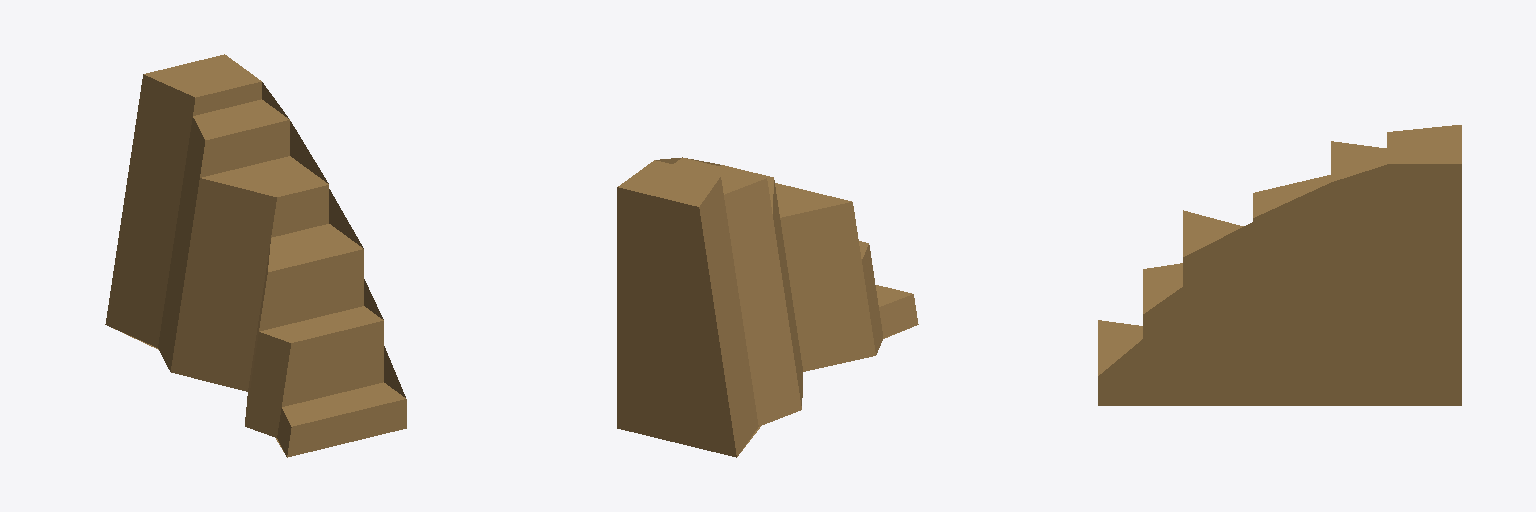
The picture shows the model from 3 angles: view 1: azimuth 30°, elevation 25°; view 2: azimuth 150°, elevation 25°; view 3: azimuth 270°, elevation 25°; orthographic projection.
Parts seen in each view (by area): view 1: Mesh1 Brown_Cliff_End Model; view 2: Mesh1 Brown_Cliff_End Model; view 3: Mesh1 Brown_Cliff_End Model.
Part boxes in pixels (x1,y1,x2,y2): Mesh1 Brown_Cliff_End Model: (105,54,406,457); Mesh1 Brown_Cliff_End Model: (617,157,918,457); Mesh1 Brown_Cliff_End Model: (1098,125,1461,405).
Bounding box in the file's own units: 1.14 × 2.2 × 3.
1 materials, 1 textured.